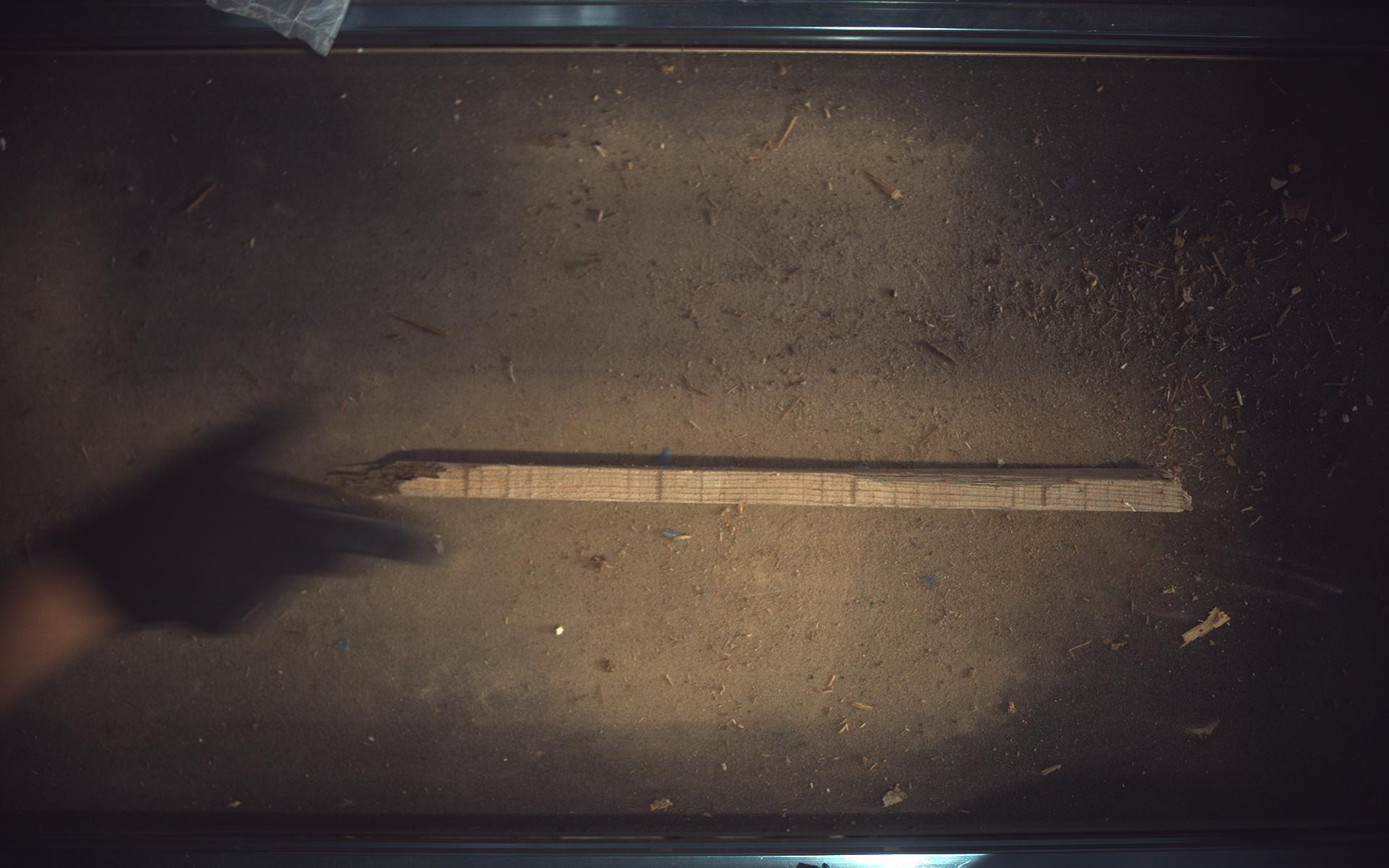wood: (326, 451, 1195, 514)
